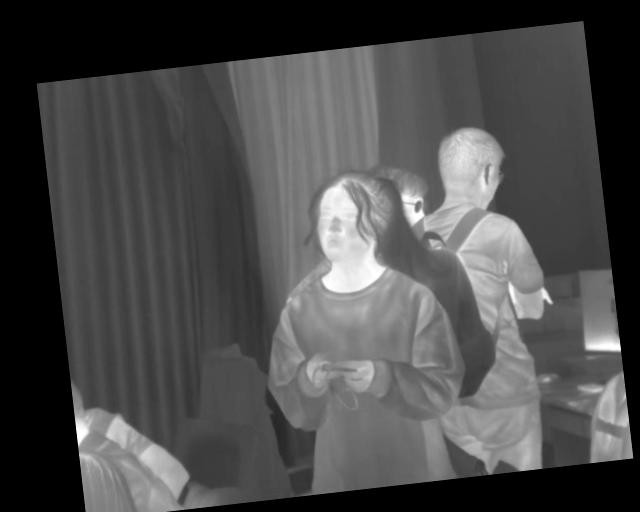face: (306, 165, 401, 265)
